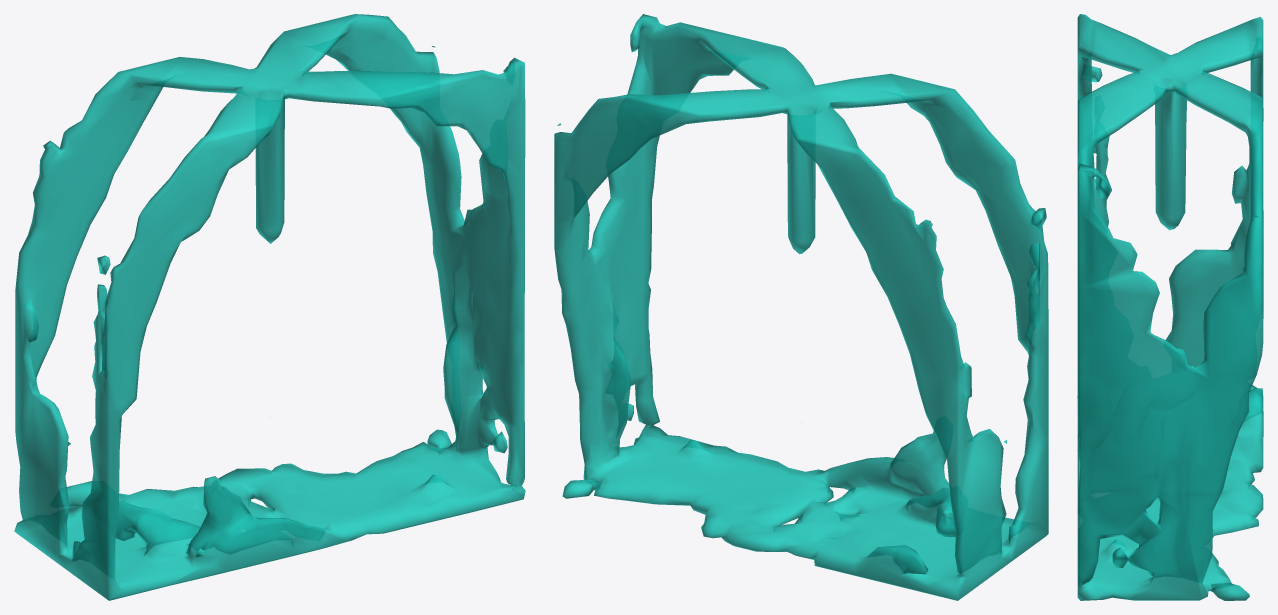
The picture shows the model from 3 angles, left to right: view 1: azimuth 30°, elevation 25°; view 2: azimuth 150°, elevation 25°; view 3: azimuth 270°, elevation 25°; orthographic projection. The views are drawn at different scales.
Parts seen in each view (by area): view 1: Liquid_Domain; view 2: Liquid_Domain; view 3: Liquid_Domain.
Part boxes in pixels (x1=…): Liquid_Domain: x1=14, y1=14, x2=525, y2=600; Liquid_Domain: x1=554, y1=14, x2=1048, y2=600; Liquid_Domain: x1=1077, y1=14, x2=1263, y2=600.
Size of the model in its own units: 884 by 884 by 345.
